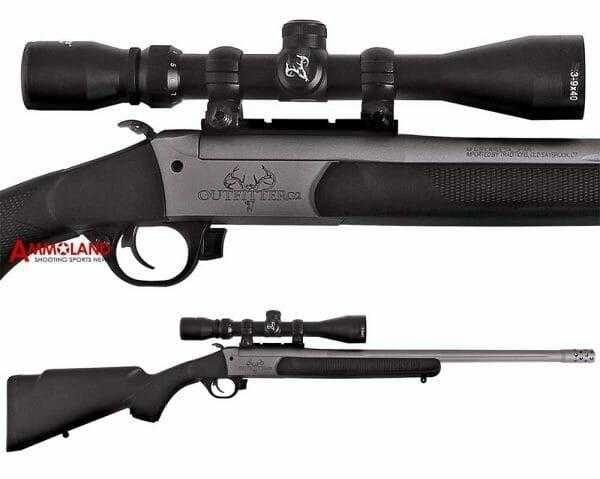heavyweapon: (0, 9, 600, 303), (1, 305, 597, 476)
